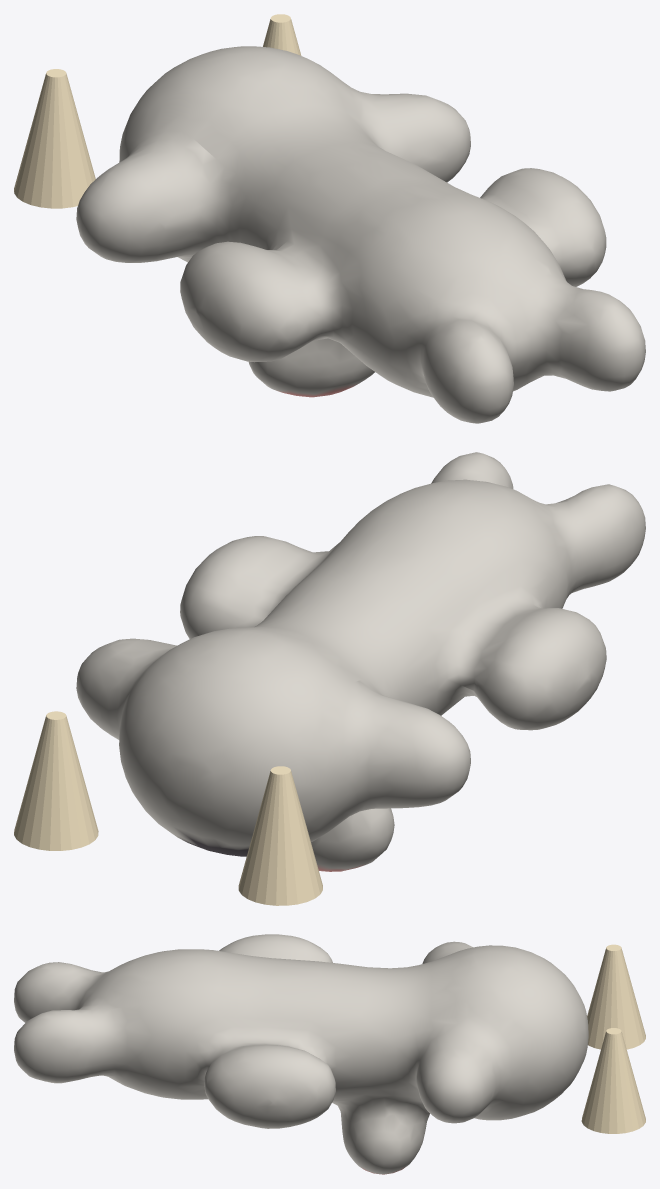
Rendered from cow.glb.
The picture shows the model from 3 angles, top to bottom: view 1: azimuth 30°, elevation 25°; view 2: azimuth 150°, elevation 25°; view 3: azimuth 270°, elevation 25°; orthographic projection. The views are drawn at different scales.
Parts seen in each view (by area): view 1: cow_surface, horn, horn.001; view 2: cow_surface, horn, horn.001; view 3: cow_surface, horn.001, horn.
Part boxes in pixels (x1,y1,x2,y2): cow_surface: (76, 46, 645, 423); horn: (14, 69, 95, 208); horn.001: (263, 14, 301, 55); cow_surface: (76, 452, 645, 871); horn: (238, 766, 322, 905); horn.001: (14, 711, 98, 850); cow_surface: (14, 934, 588, 1174); horn.001: (581, 1028, 645, 1133); horn: (587, 944, 645, 1049).
Bounding box in the file's own units: 1.12 × 0.7542 × 2.05.
